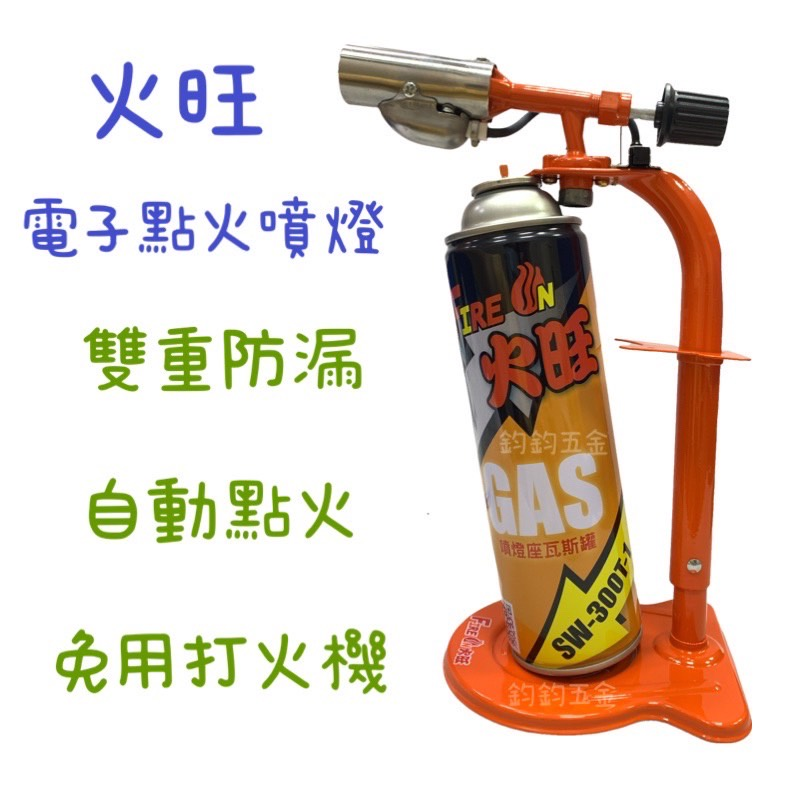gastorch: (340, 37, 759, 747)
